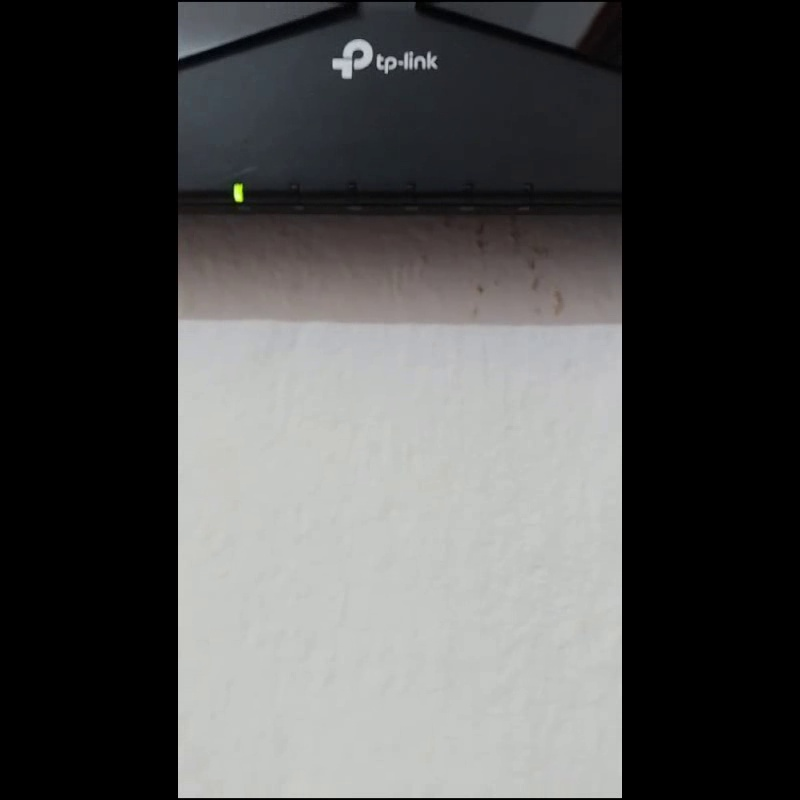off: (462, 181, 473, 202), (288, 180, 299, 201), (406, 181, 416, 202), (347, 180, 357, 201), (522, 183, 531, 203)
on_green: (232, 182, 243, 202)
